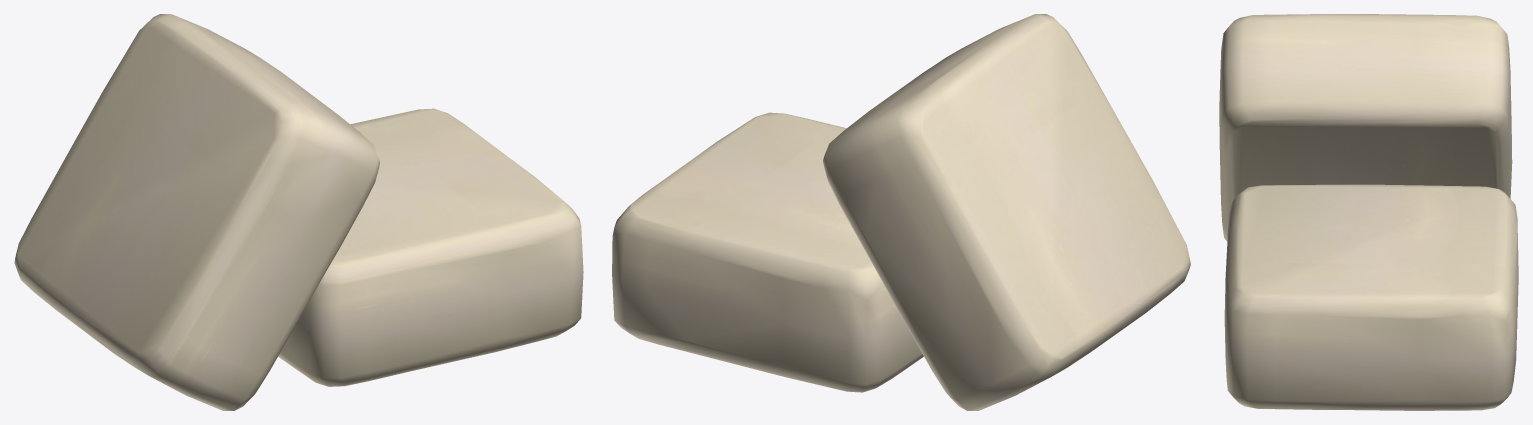
File: Soaps.FBX
3 renders of one model, left to right at view 1: azimuth 30°, elevation 25°; view 2: azimuth 150°, elevation 25°; view 3: azimuth 270°, elevation 25°, orthographic. The views are drawn at different scales.
Parts seen in each view (by area): view 1: Soaps; view 2: Soaps; view 3: Soaps.
Boxes of the visible parts, bbox=[...] form: Soaps: bbox=[14, 14, 583, 410]; Soaps: bbox=[612, 14, 1190, 410]; Soaps: bbox=[1219, 14, 1518, 410].
Size of the model in its own units: 16.54 by 10.3 by 10.44.
1 material, 1 textured.
